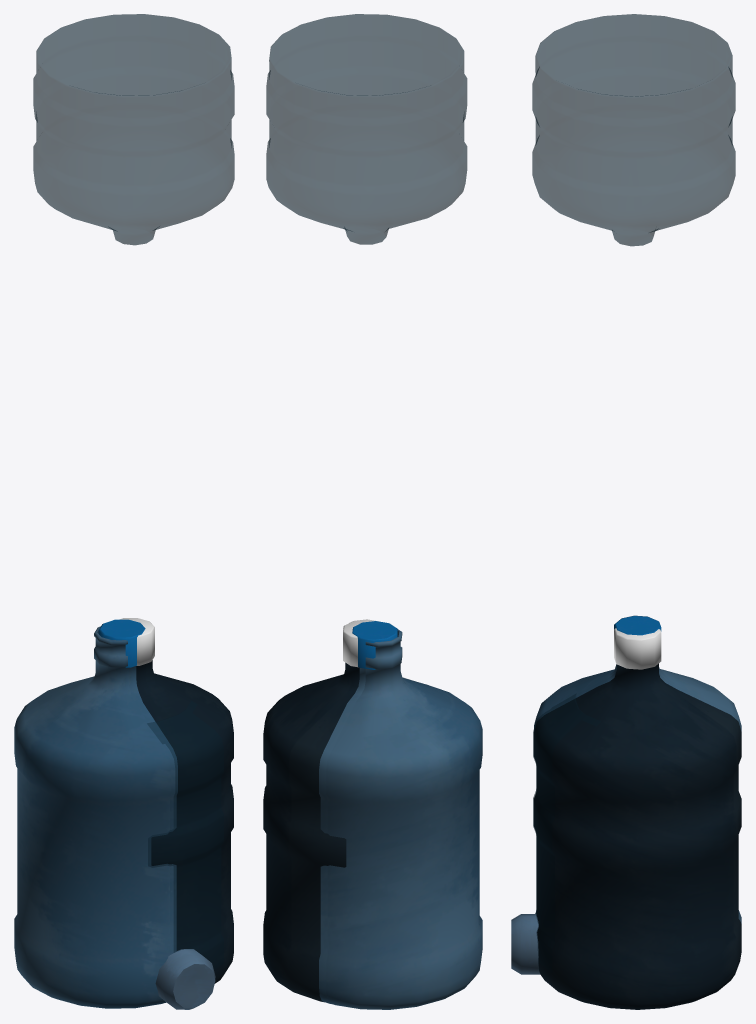
File: FBX_BottleWater_Combine.fbx
The picture shows the model from 3 angles, left to right: view 1: azimuth 30°, elevation 25°; view 2: azimuth 150°, elevation 25°; view 3: azimuth 270°, elevation 25°; orthographic projection.
Visible parts, largest first — view 1: SM_BottleEmpty, SM_Water, SM_Bottle, SM_Bottle_water, SM_BottleA, SM_BottleWaterB; view 2: SM_BottleEmpty, SM_Water, SM_Bottle, SM_BottleA; view 3: SM_Bottle, SM_Water, SM_Bottle_water, SM_BottleEmpty, SM_BottleWaterB, SM_BottleA.
Boxes of the visible parts, bbox=[...] form: SM_BottleEmpty: bbox=[14, 626, 171, 1008]; SM_Water: bbox=[33, 14, 234, 245]; SM_Bottle: bbox=[119, 618, 233, 983]; SM_Bottle_water: bbox=[147, 701, 223, 969]; SM_BottleA: bbox=[98, 619, 177, 1002]; SM_BottleWaterB: bbox=[155, 949, 215, 1009]; SM_BottleEmpty: bbox=[326, 629, 482, 1009]; SM_Water: bbox=[266, 14, 467, 244]; SM_Bottle: bbox=[263, 619, 379, 1002]; SM_BottleA: bbox=[319, 621, 397, 1003]; SM_Bottle: bbox=[534, 628, 741, 1009]; SM_Water: bbox=[532, 14, 735, 246]; SM_Bottle_water: bbox=[533, 693, 600, 972]; SM_BottleEmpty: bbox=[534, 615, 741, 919]; SM_BottleWaterB: bbox=[511, 914, 540, 974]; SM_BottleA: bbox=[534, 616, 741, 923].
Size of the model in its own units: 0.2913 by 1.32 by 0.2994.
